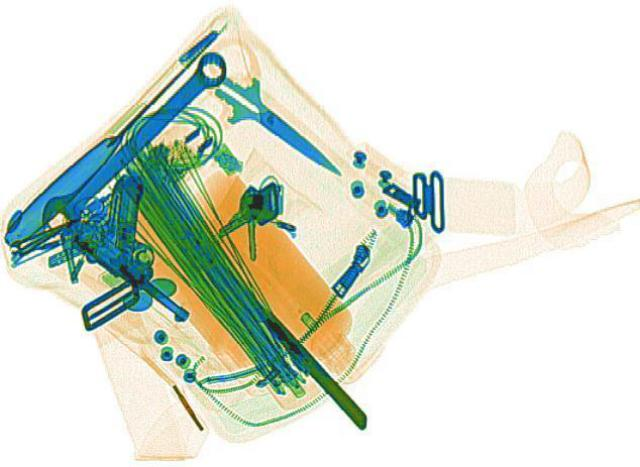Gun: (42, 168, 266, 321)
Knife: (0, 27, 232, 240), (189, 63, 367, 188)
Wrench: (21, 44, 242, 237)
